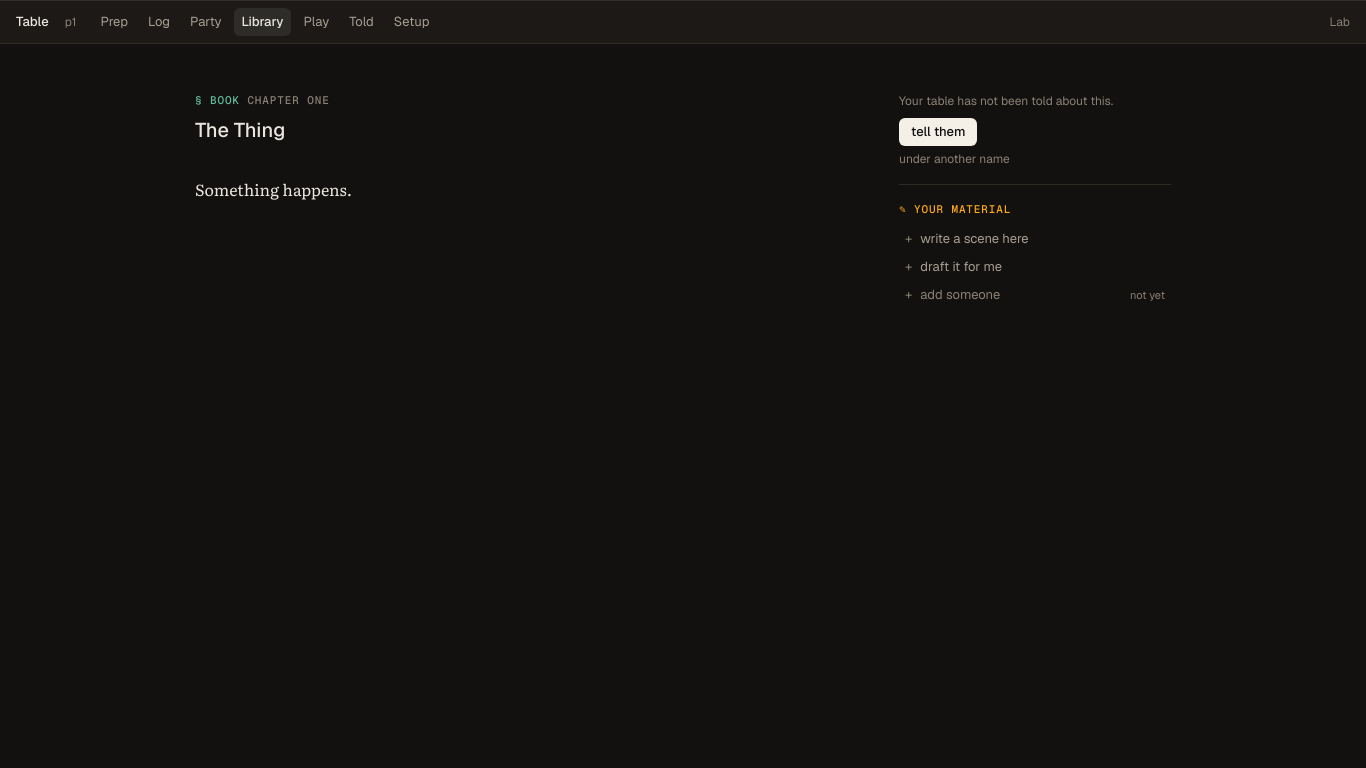
Test: moving to another section › leaves the stored block behind with the section it belongs to
What coordinates should you click on to do the following:
click the button "+ draft it for me"
I would click on:
 (961, 266)
Its box is [899,253,1171,281].
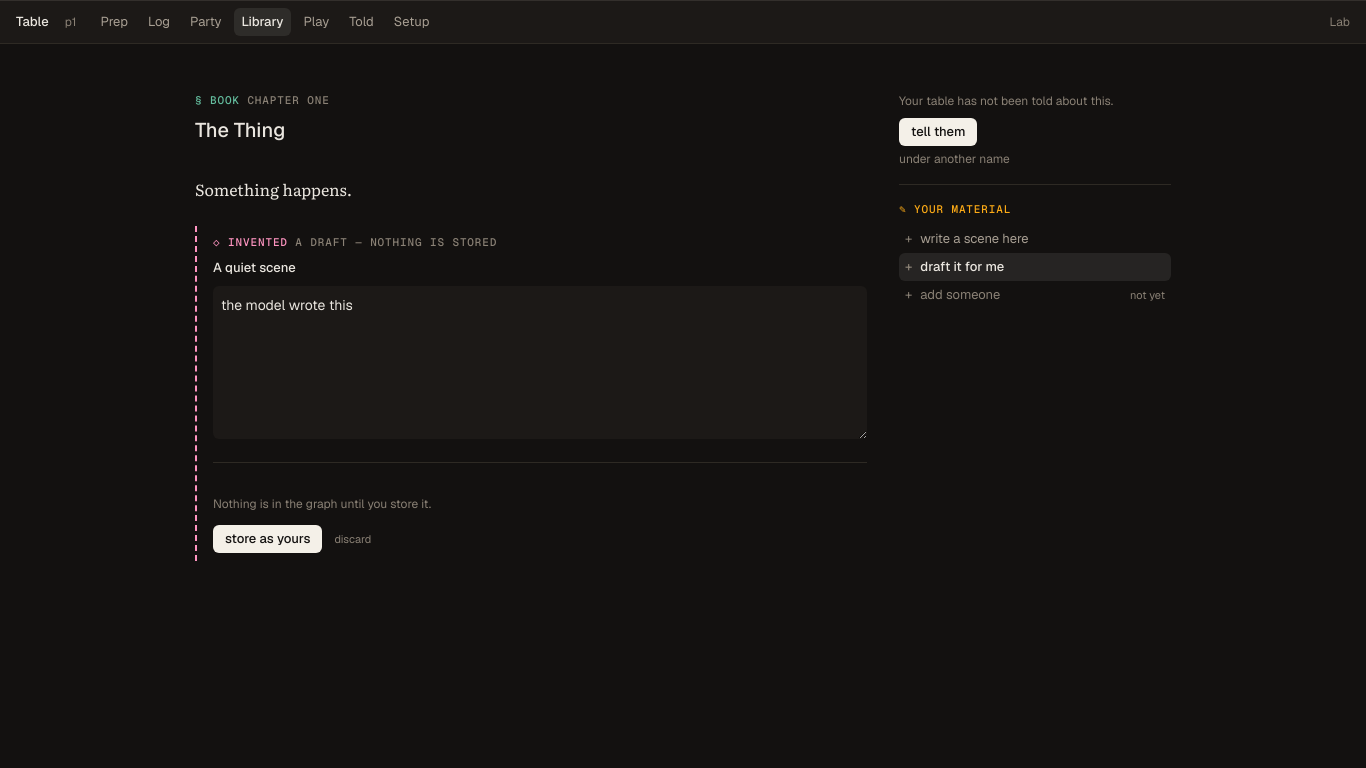
What coordinates should you click on to do the following:
click the button "store as yours"
I would click on:
 (268, 538)
Its box is [213,524,322,552].
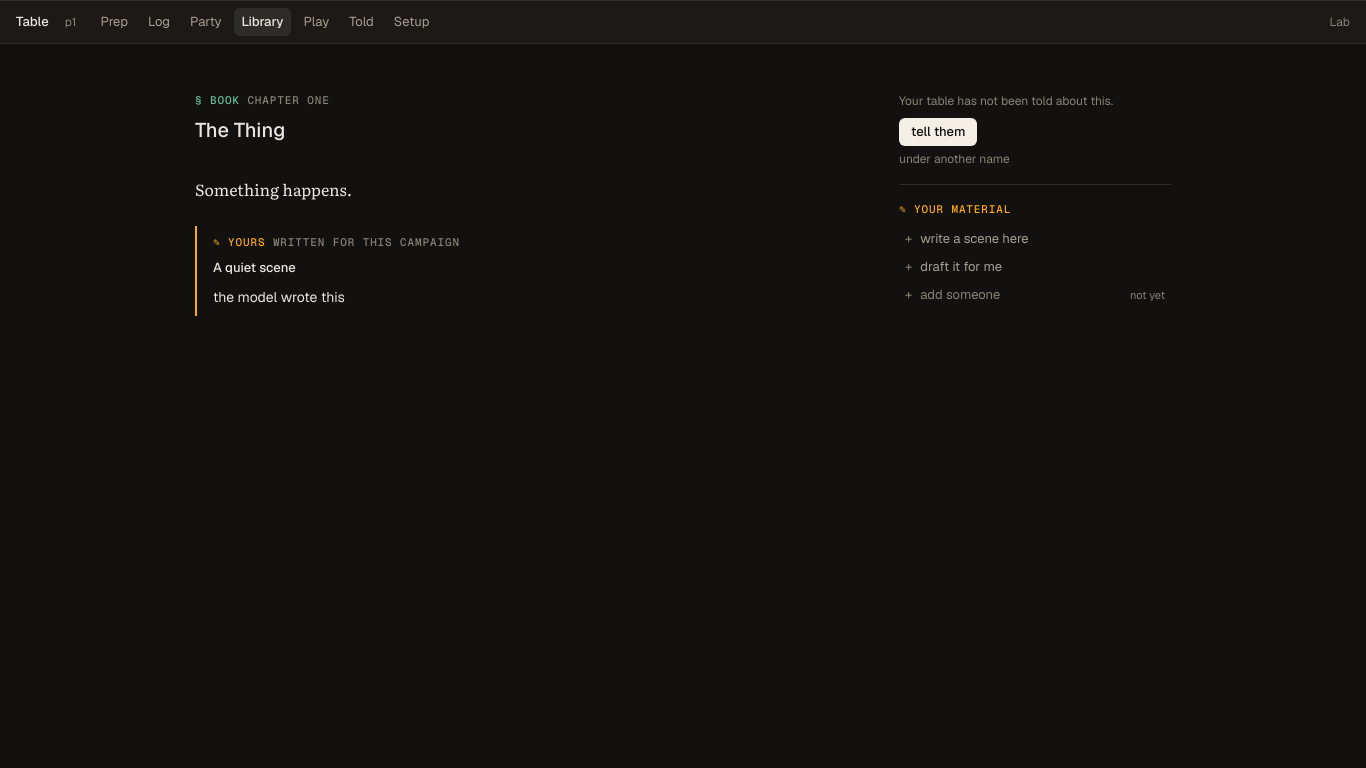
Now the text "the model wrote this" is shown, box [213,288,345,306]
